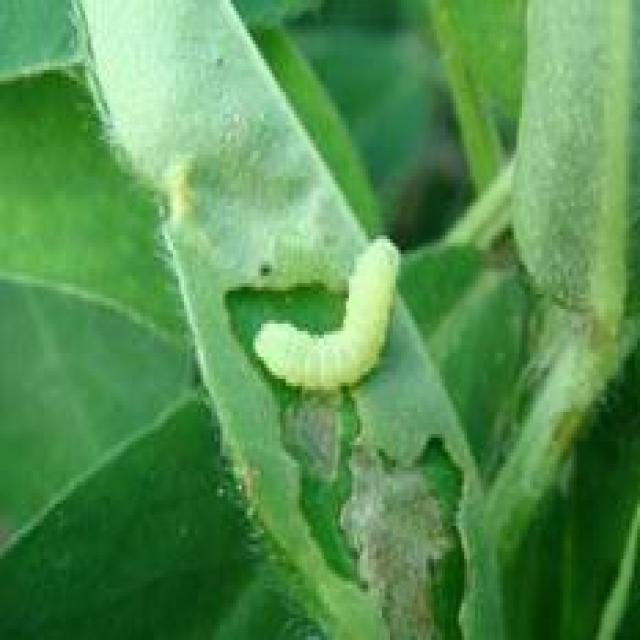BeetArmyWorm-Larva-: (241, 228, 407, 396)
